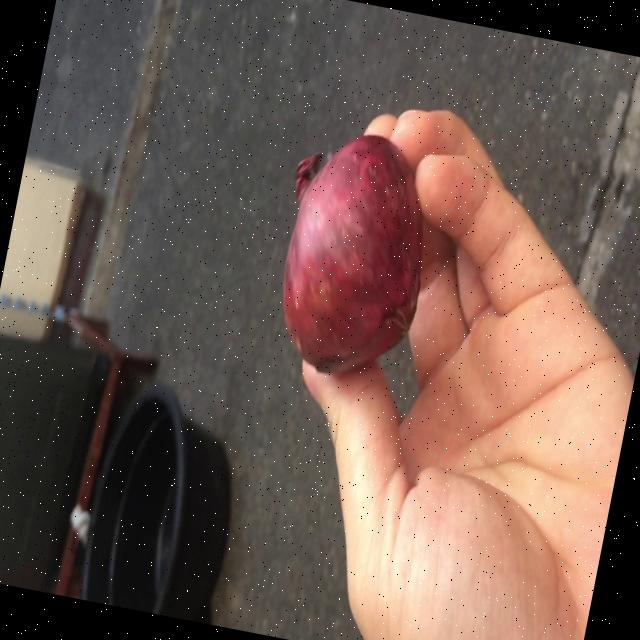Onion: (284, 135, 422, 373)
